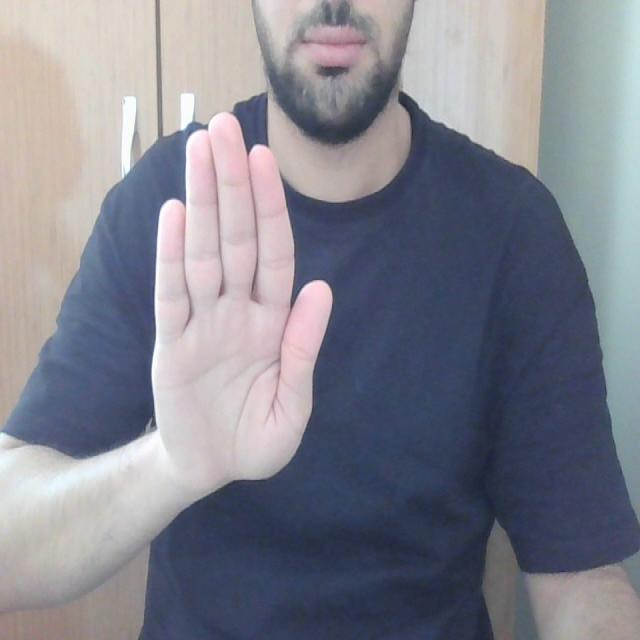Dur: (146, 60, 341, 495)
